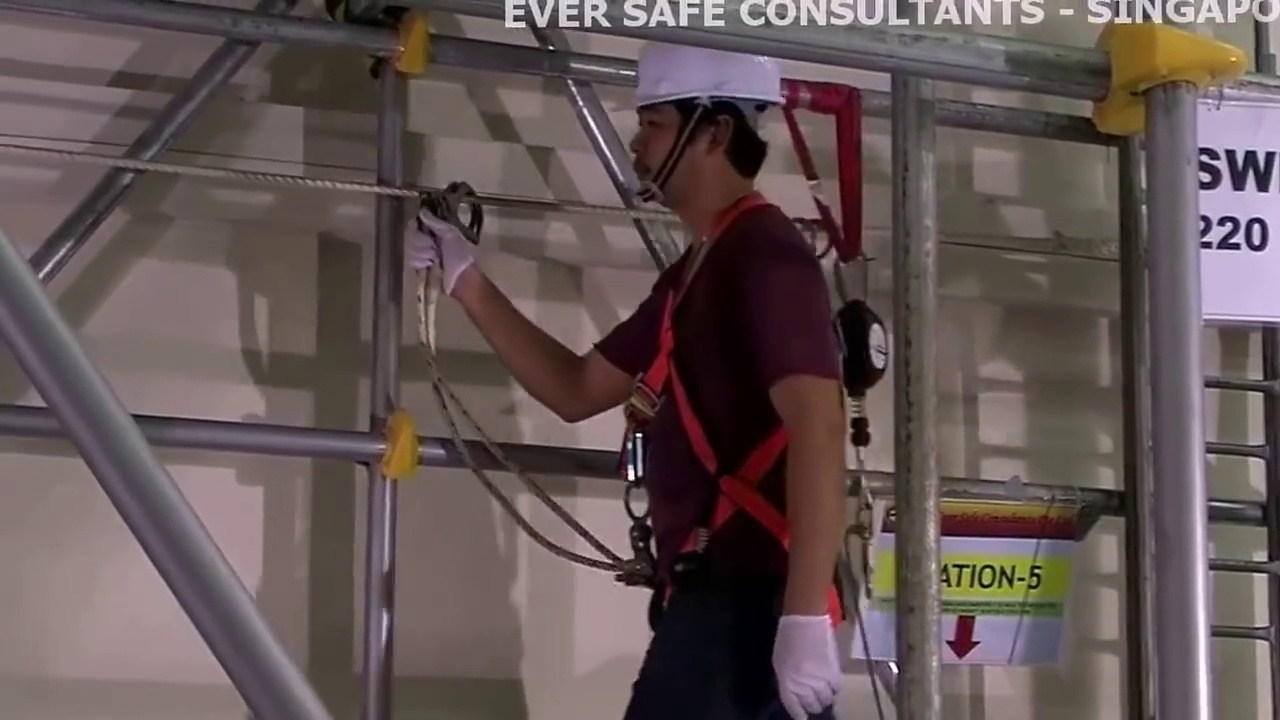harness: (630, 265, 777, 575)
helmet: (623, 38, 783, 103)
hook: (417, 169, 485, 249)
leash: (436, 411, 603, 594)
